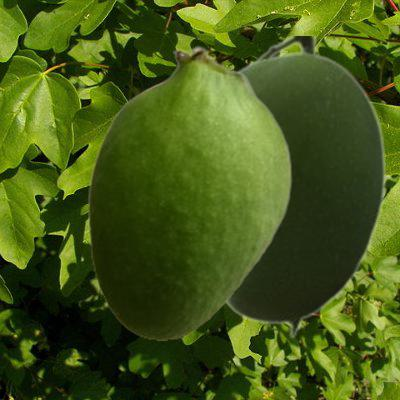green_mango: (87, 45, 291, 339), (225, 36, 385, 338)
